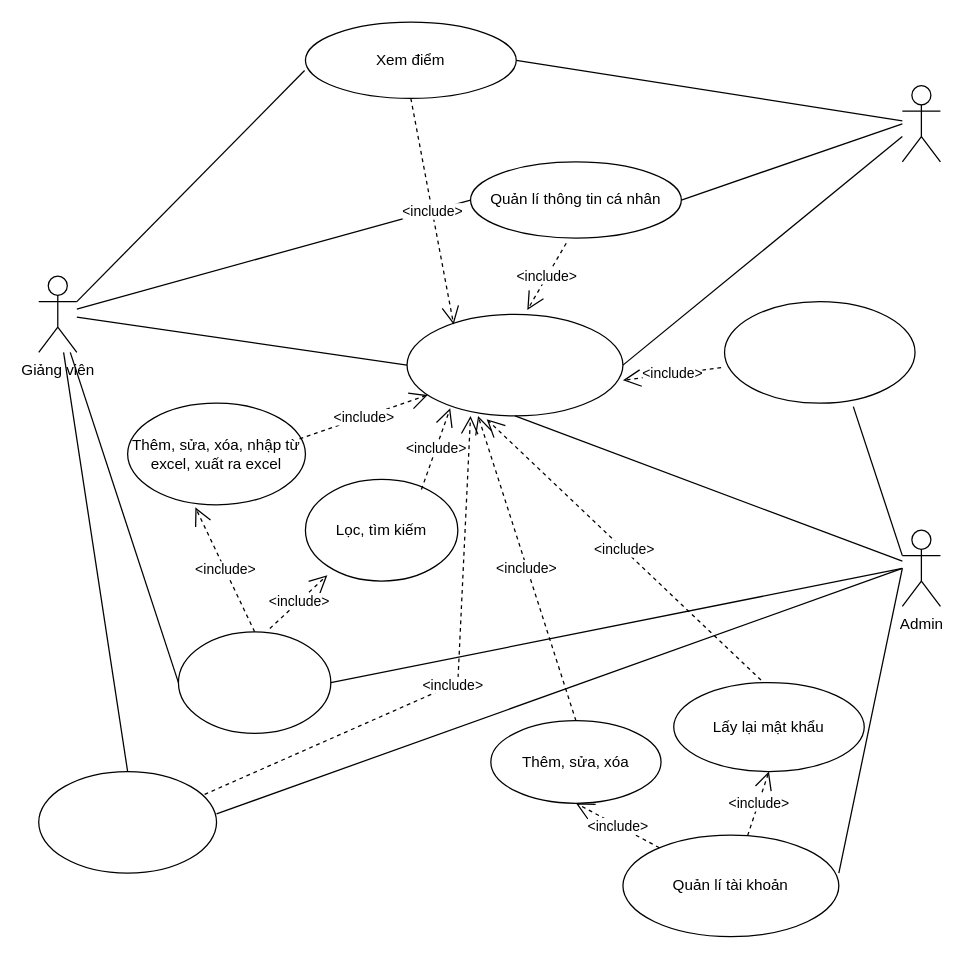
The diagram is 974 pixels wide and 959 high, and some of its shapes have lost their labels. The shapes that lost their labels are listed below. From the top down, each one's centre as x and y in pixels, then its label:
the point at 920,123: Sinh viên
the point at 514,364: Đăng nhập
the point at 819,351: Quản lí thông tin sinh viên, giảng viên
the point at 254,682: Quản lí điểm
the point at 127,821: Báo cáo thống kê
